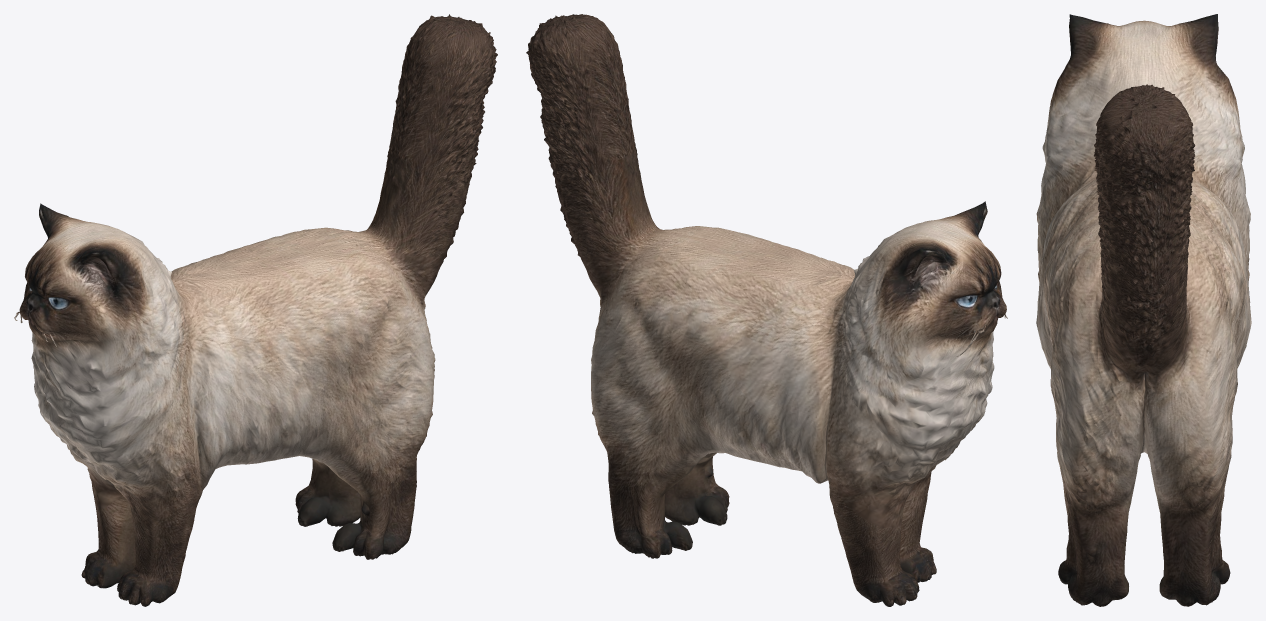
The model's file is MRJINX.glb.
The picture shows the model from 3 angles, left to right: view 1: azimuth 30°, elevation 25°; view 2: azimuth 150°, elevation 25°; view 3: azimuth 270°, elevation 25°; orthographic projection. The views are drawn at different scales.
Parts seen in each view (by area): view 1: tripo_node_951a98ae-6414-4265-a016-83f19e4021c8; view 2: tripo_node_951a98ae-6414-4265-a016-83f19e4021c8; view 3: tripo_node_951a98ae-6414-4265-a016-83f19e4021c8.
Boxes of the visible parts, bbox=[...] form: tripo_node_951a98ae-6414-4265-a016-83f19e4021c8: bbox=[14, 14, 497, 606]; tripo_node_951a98ae-6414-4265-a016-83f19e4021c8: bbox=[526, 14, 1007, 606]; tripo_node_951a98ae-6414-4265-a016-83f19e4021c8: bbox=[1036, 14, 1251, 606].
Bounding box in the file's own units: 0.9899 × 0.9994 × 0.3491.
Materials: 1 (1 with a texture image).
